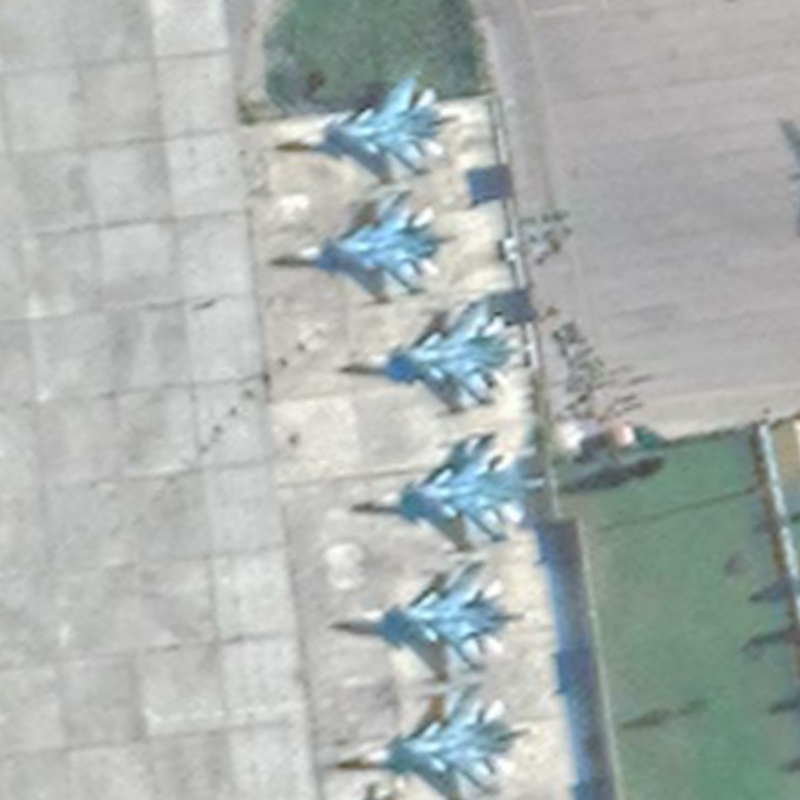A19: (328, 676, 543, 795), (347, 426, 542, 555), (330, 290, 525, 418), (333, 553, 526, 673), (266, 62, 454, 183), (265, 189, 458, 297)
